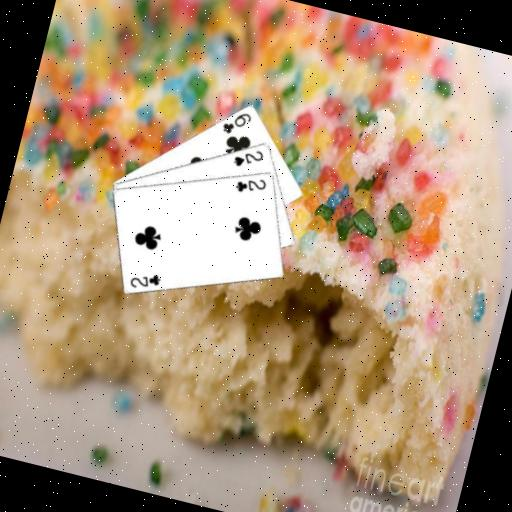2C: (231, 170, 269, 200), (126, 266, 164, 295)
2S: (230, 142, 267, 174)
6C: (219, 105, 255, 140)
